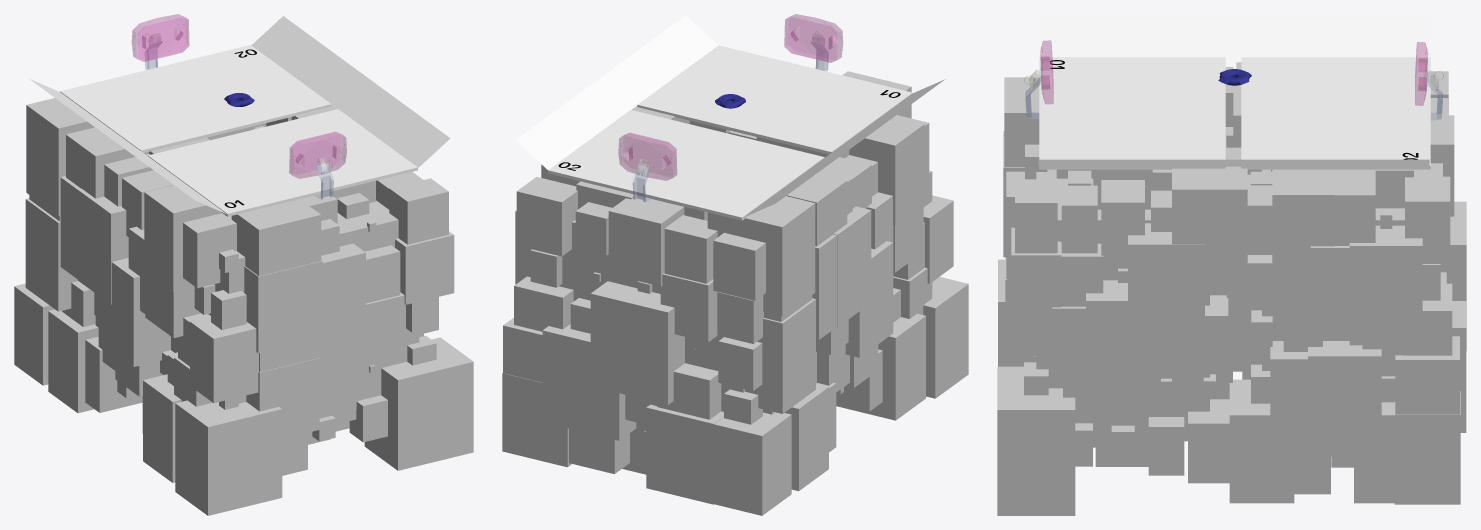
File: export_pongV0.2.glb
3 views of the same model, side by side, from view 1: azimuth 30°, elevation 25°; view 2: azimuth 150°, elevation 25°; view 3: azimuth 270°, elevation 25° (orthographic). The views are drawn at different scales.
Parts seen in each view (by area): view 1: Object, Padel_1, Padel_2; view 2: Object, Padel_2, Padel_1; view 3: Object, Padel_1, Padel_2.
Part boxes in pixels (x1,y1,x2,y2): Object: (14,16,473,515); Padel_1: (289,132,346,199); Padel_2: (132,14,189,69); Object: (502,15,968,515); Padel_2: (618,133,676,201); Padel_1: (784,14,842,71); Object: (997,14,1466,515); Padel_1: (1024,40,1053,119); Padel_2: (1415,42,1443,120).
Size of the model in its own units: 13.79 by 16.43 by 18.01.
5 materials, 4 textured.
